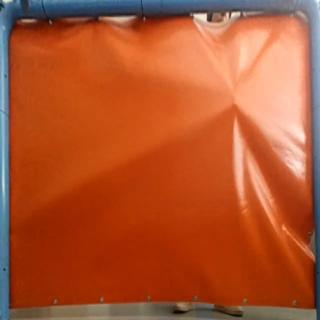Hit-hRxx: (227, 100, 241, 112)
